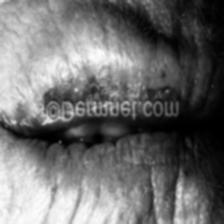Potentially Malignant Skin Tumors: (43, 86, 64, 114)
